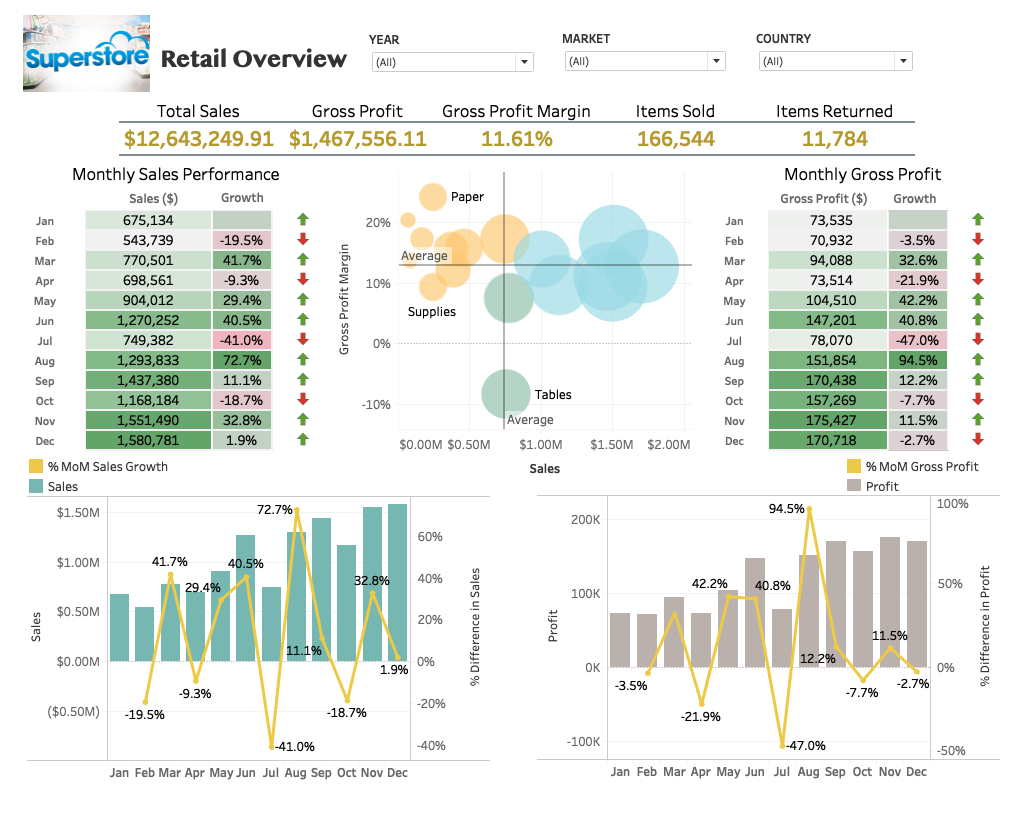

This screenshot's page, from the dashboard's own definition file:
{"tool":"tableau","page":{"name":"Retail Overview Dashboard","canvas":[1000,800],"ordinal":0},"visuals":[{"type":"image","param":"/Users/akshitjain/Desktop/Big Data/Superstore-Tableau-Analysis/download.jpg","box":[9,11,127,78]},{"type":"filter","title":"MoM Sales KPI","param":"[federated.08whhsn1br31kc1a6so61051tb5e].[none:Market:nk]","box":[548,26,167,47]},{"type":"filter","title":"ComparingMetrics","param":"[federated.08whhsn1br31kc1a6so61051tb5e].[none:Country:nk]","box":[742,26,160,44]},{"type":"filter","title":"MonthlySales","param":"[federated.08whhsn1br31kc1a6so61051tb5e].[yr:Order Date:ok]","box":[355,27,168,52]},{"type":"title","box":[144,35,197,42]},{"type":"worksheet","title":"Overall Stats","mark":"Automatic","box":[104,96,802,73]},{"type":"text","box":[52,149,220,42]},{"type":"text","box":[764,149,170,42]},{"type":"worksheet","title":"ComparingMetrics","mark":"Automatic","rows":["Calculation_1411808133830012935"],"cols":["Sales"],"box":[321,168,357,312]},{"type":"text","box":[86,173,108,42]},{"type":"text","box":[764,173,108,42]},{"type":"text","box":[877,173,108,42]},{"type":"text","box":[189,179,79,29]},{"type":"worksheet","title":"MonthlyProfit","mark":"Automatic","rows":["Order Date"],"box":[686,190,209,257]},{"type":"worksheet","title":"MoM Sales","mark":"Automatic","rows":["Order Date"],"box":[197,205,62,245]},{"type":"worksheet","title":"MoM Sales KPI","mark":"Shape","rows":["Order Date"],"box":[259,205,65,246]},{"type":"worksheet","title":"MoM Profit","mark":"Automatic","rows":["Order Date"],"box":[873,205,62,243]},{"type":"worksheet","title":"MoM Gross Profit KPI","mark":"Shape","rows":["Order Date"],"box":[934,205,64,242]},{"type":"legend","title":"MonthlySales-Plot","param":"[federated.08whhsn1br31kc1a6so61051tb5e].[:Measure Names]","box":[12,434,155,62]},{"type":"legend","title":"MonthlyProfit-Plot","param":"[federated.08whhsn1br31kc1a6so61051tb5e].[:Measure Names]","box":[830,434,162,53]},{"type":"worksheet","title":"MonthlyProfit-Plot","mark":"Automatic","rows":["Profit","Profit"],"cols":["Order Date"],"box":[523,491,464,291]},{"type":"worksheet","title":"MonthlySales-Plot","mark":"Automatic","rows":["Sales","Sales"],"cols":["Order Date"],"box":[13,492,464,291]}]}

Visuals, with their boxes in screenshot pixels (x1, y1, x2, y2), scaled from the page's 1000x800 canvas onto the 1032x818 screenshot:
image: <box>9,11,140,91</box>
"MoM Sales KPI" filter: <box>566,27,738,75</box>
"ComparingMetrics" filter: <box>766,27,931,72</box>
"MonthlySales" filter: <box>366,28,540,81</box>
title: <box>149,36,352,79</box>
"Overall Stats" worksheet: <box>107,98,935,173</box>
text: <box>54,152,281,195</box>
text: <box>788,152,964,195</box>
"ComparingMetrics" worksheet: <box>331,172,700,491</box>
text: <box>89,177,200,220</box>
text: <box>788,177,900,220</box>
text: <box>905,177,1017,220</box>
text: <box>195,183,277,213</box>
"MonthlyProfit" worksheet: <box>708,194,924,457</box>
"MoM Sales" worksheet: <box>203,210,267,460</box>
"MoM Sales KPI" worksheet (Shape marks): <box>267,210,334,461</box>
"MoM Profit" worksheet: <box>901,210,965,458</box>
"MoM Gross Profit KPI" worksheet (Shape marks): <box>964,210,1030,457</box>
"MonthlySales-Plot" legend: <box>12,444,172,507</box>
"MonthlyProfit-Plot" legend: <box>857,444,1024,498</box>
"MonthlyProfit-Plot" worksheet: <box>540,502,1019,800</box>
"MonthlySales-Plot" worksheet: <box>13,503,492,801</box>
